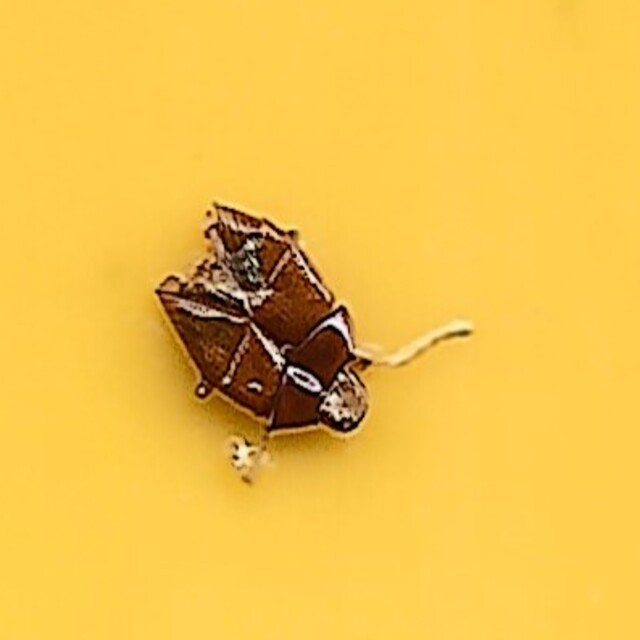Coleoptera: (161, 197, 479, 443)
